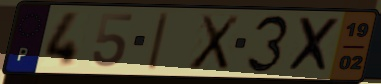3: (241, 13, 293, 75)
4: (41, 10, 83, 70)
5: (90, 12, 136, 69)
I: (145, 11, 171, 72)
X: (285, 15, 343, 75), (186, 13, 243, 72)
